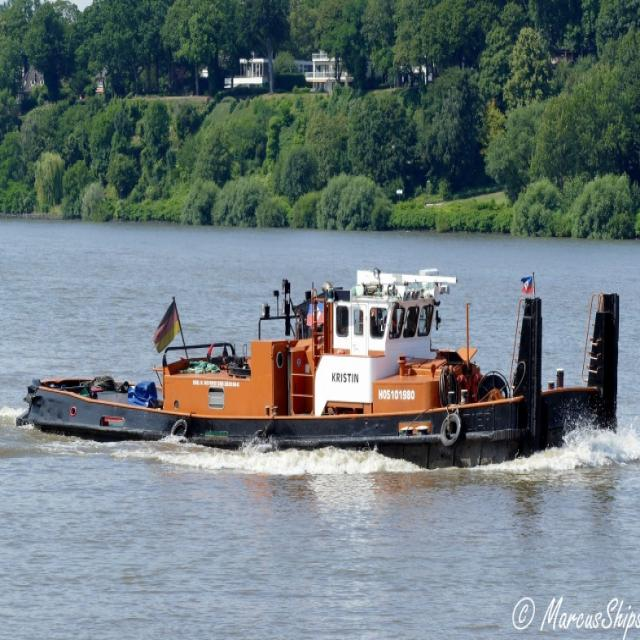tugboat: (15, 248, 630, 494)
